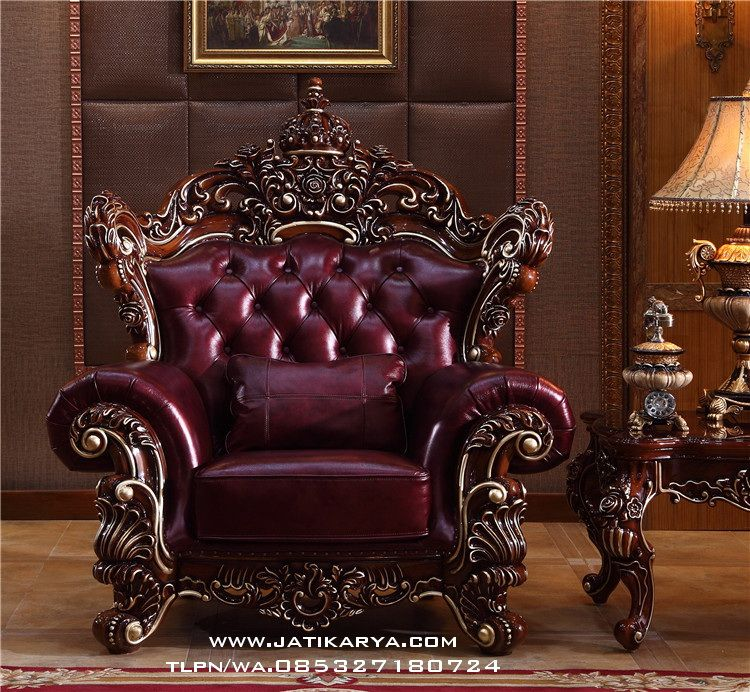Carving Chair: (63, 137, 555, 657)
